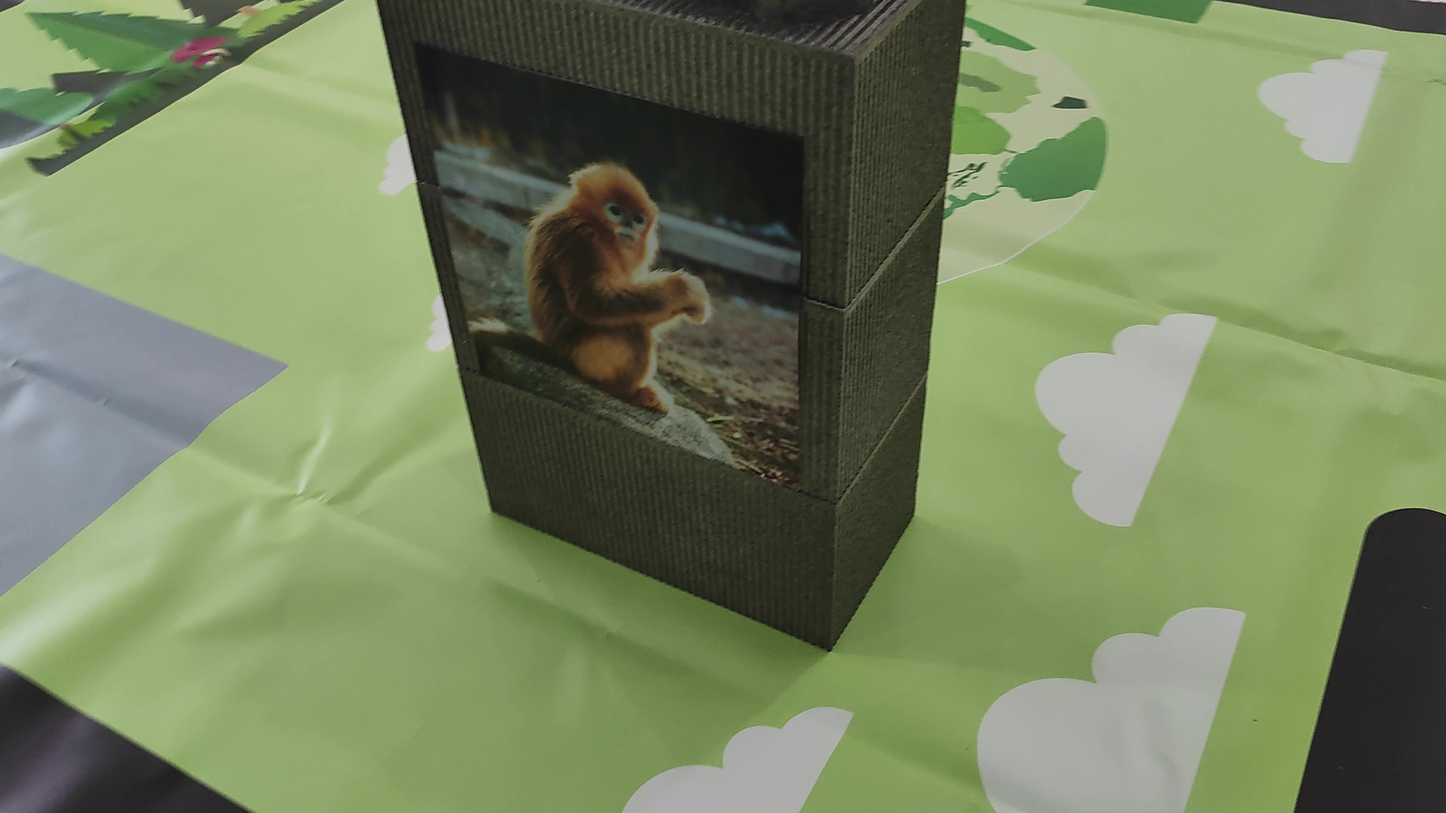monkey: (487, 131, 755, 441)
